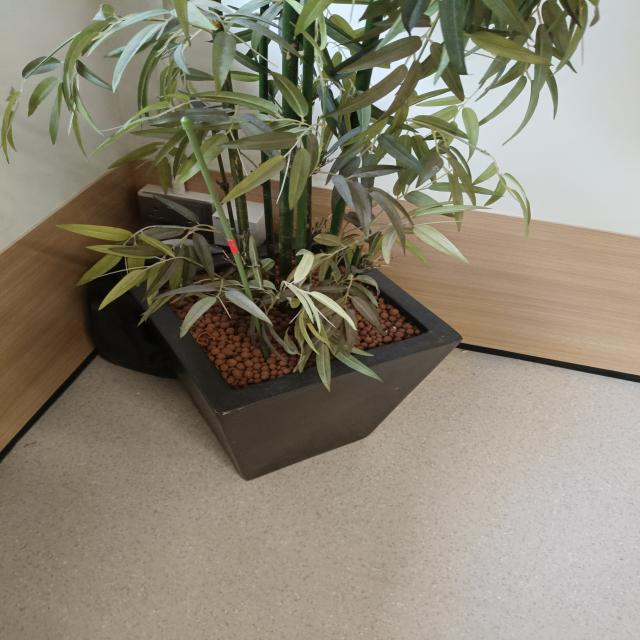Pot: (126, 226, 464, 480)
